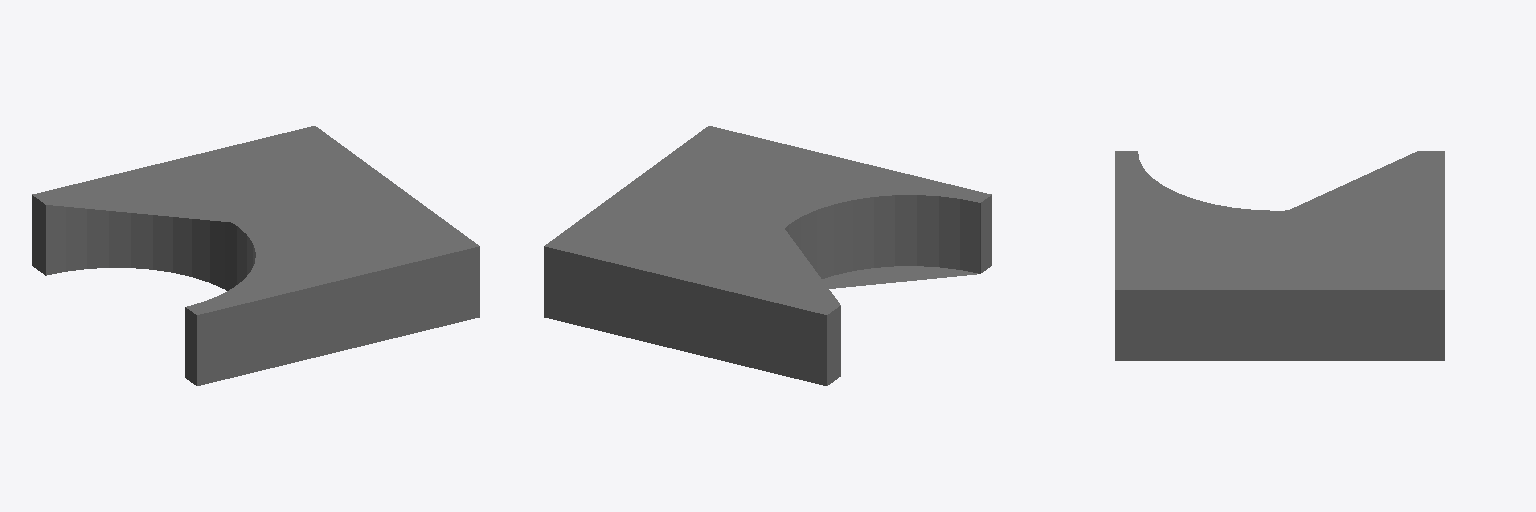
File: Block8HIGHARCH.obj
The picture shows the model from 3 angles: view 1: azimuth 30°, elevation 25°; view 2: azimuth 150°, elevation 25°; view 3: azimuth 270°, elevation 25°; orthographic projection.
Visible parts, largest first — view 1: pCube7; view 2: pCube7; view 3: pCube7.
Boxes of the visible parts, <box> form: pCube7: <box>32,126,479,385</box>; pCube7: <box>544,126,991,385</box>; pCube7: <box>1115,151,1444,360</box>.
Bounding box in the file's own units: 394 × 94.45 × 397.